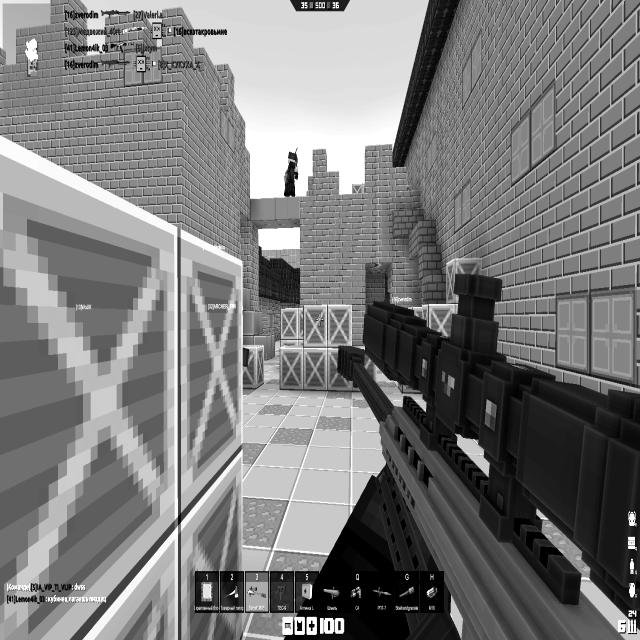Head: (288, 150, 298, 166)
Player: (283, 145, 299, 197)
